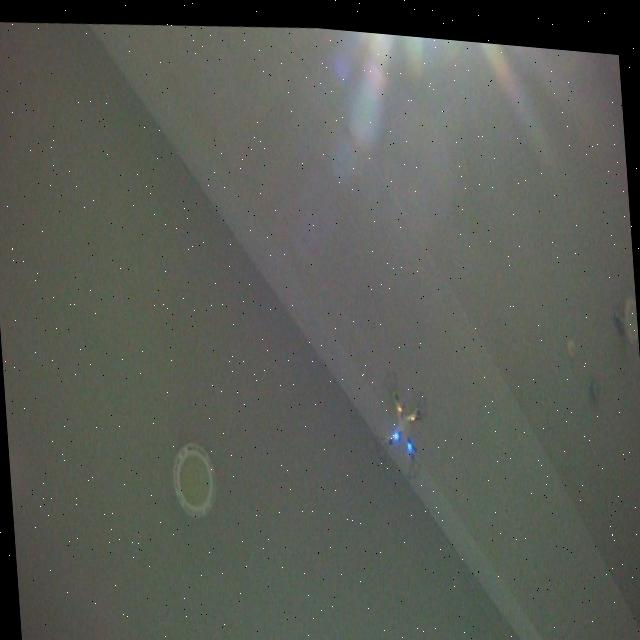drone: (368, 355, 436, 478)
